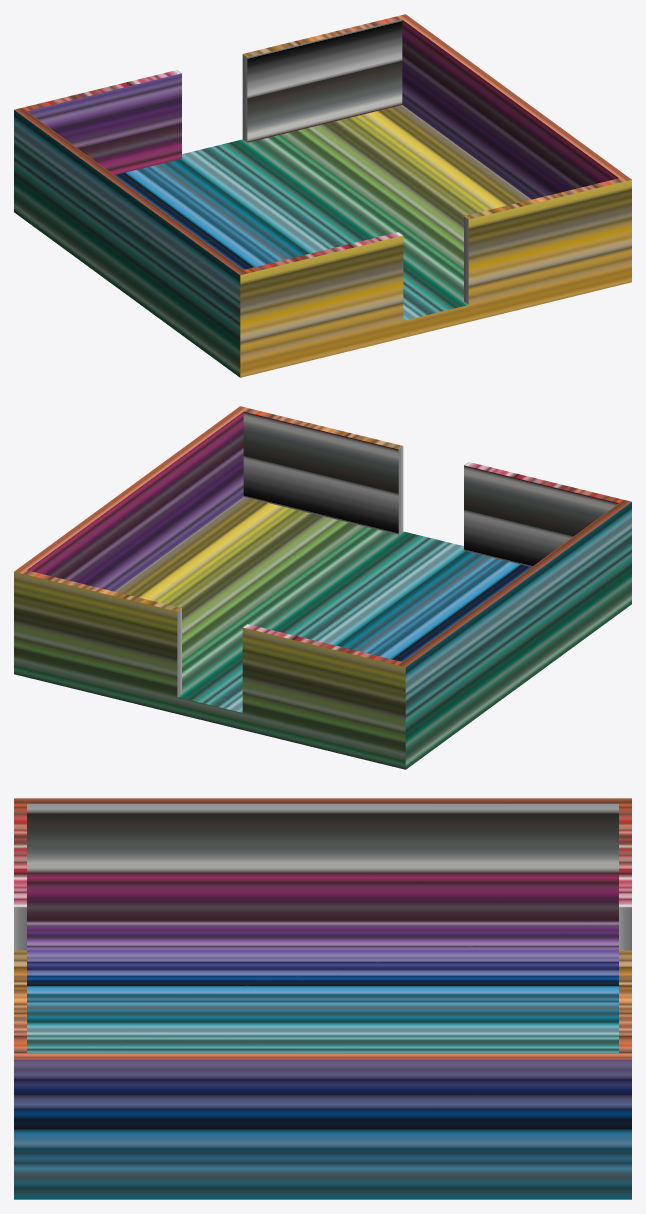
Rendered from two_way.obj.
3 views of the same model, one above another, from view 1: azimuth 30°, elevation 25°; view 2: azimuth 150°, elevation 25°; view 3: azimuth 270°, elevation 25° (orthographic). The views are drawn at different scales.
Visible parts, largest first — view 1: Open_Two_Way__Room-00_Open_Two_Way__Room-00; view 2: Open_Two_Way__Room-00_Open_Two_Way__Room-00; view 3: Open_Two_Way__Room-00_Open_Two_Way__Room-00.
Boxes of the visible parts, left/top/right/bottom form: Open_Two_Way__Room-00_Open_Two_Way__Room-00: left=14, top=14, right=631, bottom=377; Open_Two_Way__Room-00_Open_Two_Way__Room-00: left=14, top=406, right=631, bottom=769; Open_Two_Way__Room-00_Open_Two_Way__Room-00: left=14, top=798, right=631, bottom=1199.
Bounding box in the file's own units: 48 × 12 × 48.
